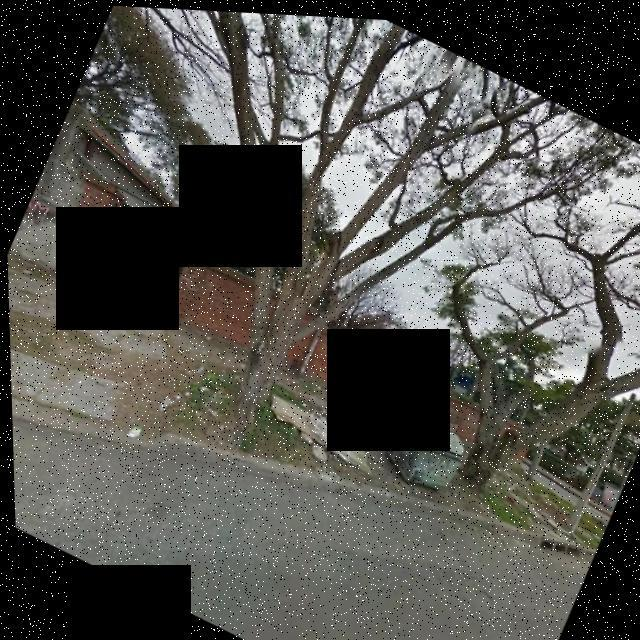bin: (357, 383, 484, 505)
